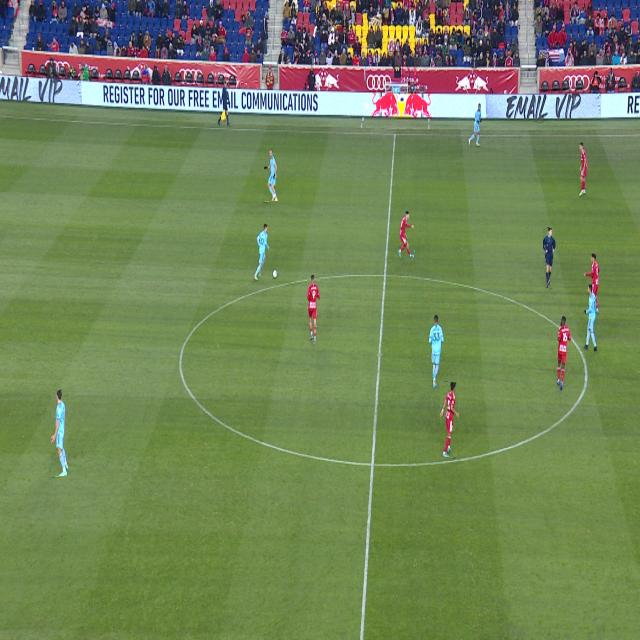football: (273, 269, 277, 278)
player: (51, 391, 68, 476), (441, 382, 458, 457), (429, 315, 443, 387), (557, 317, 570, 390), (584, 254, 599, 313), (584, 285, 597, 350), (254, 224, 269, 280), (308, 276, 319, 344), (264, 150, 278, 201), (399, 212, 414, 258), (468, 103, 481, 146), (578, 141, 587, 196)
referee: (544, 228, 554, 288), (553, 250, 554, 253)
